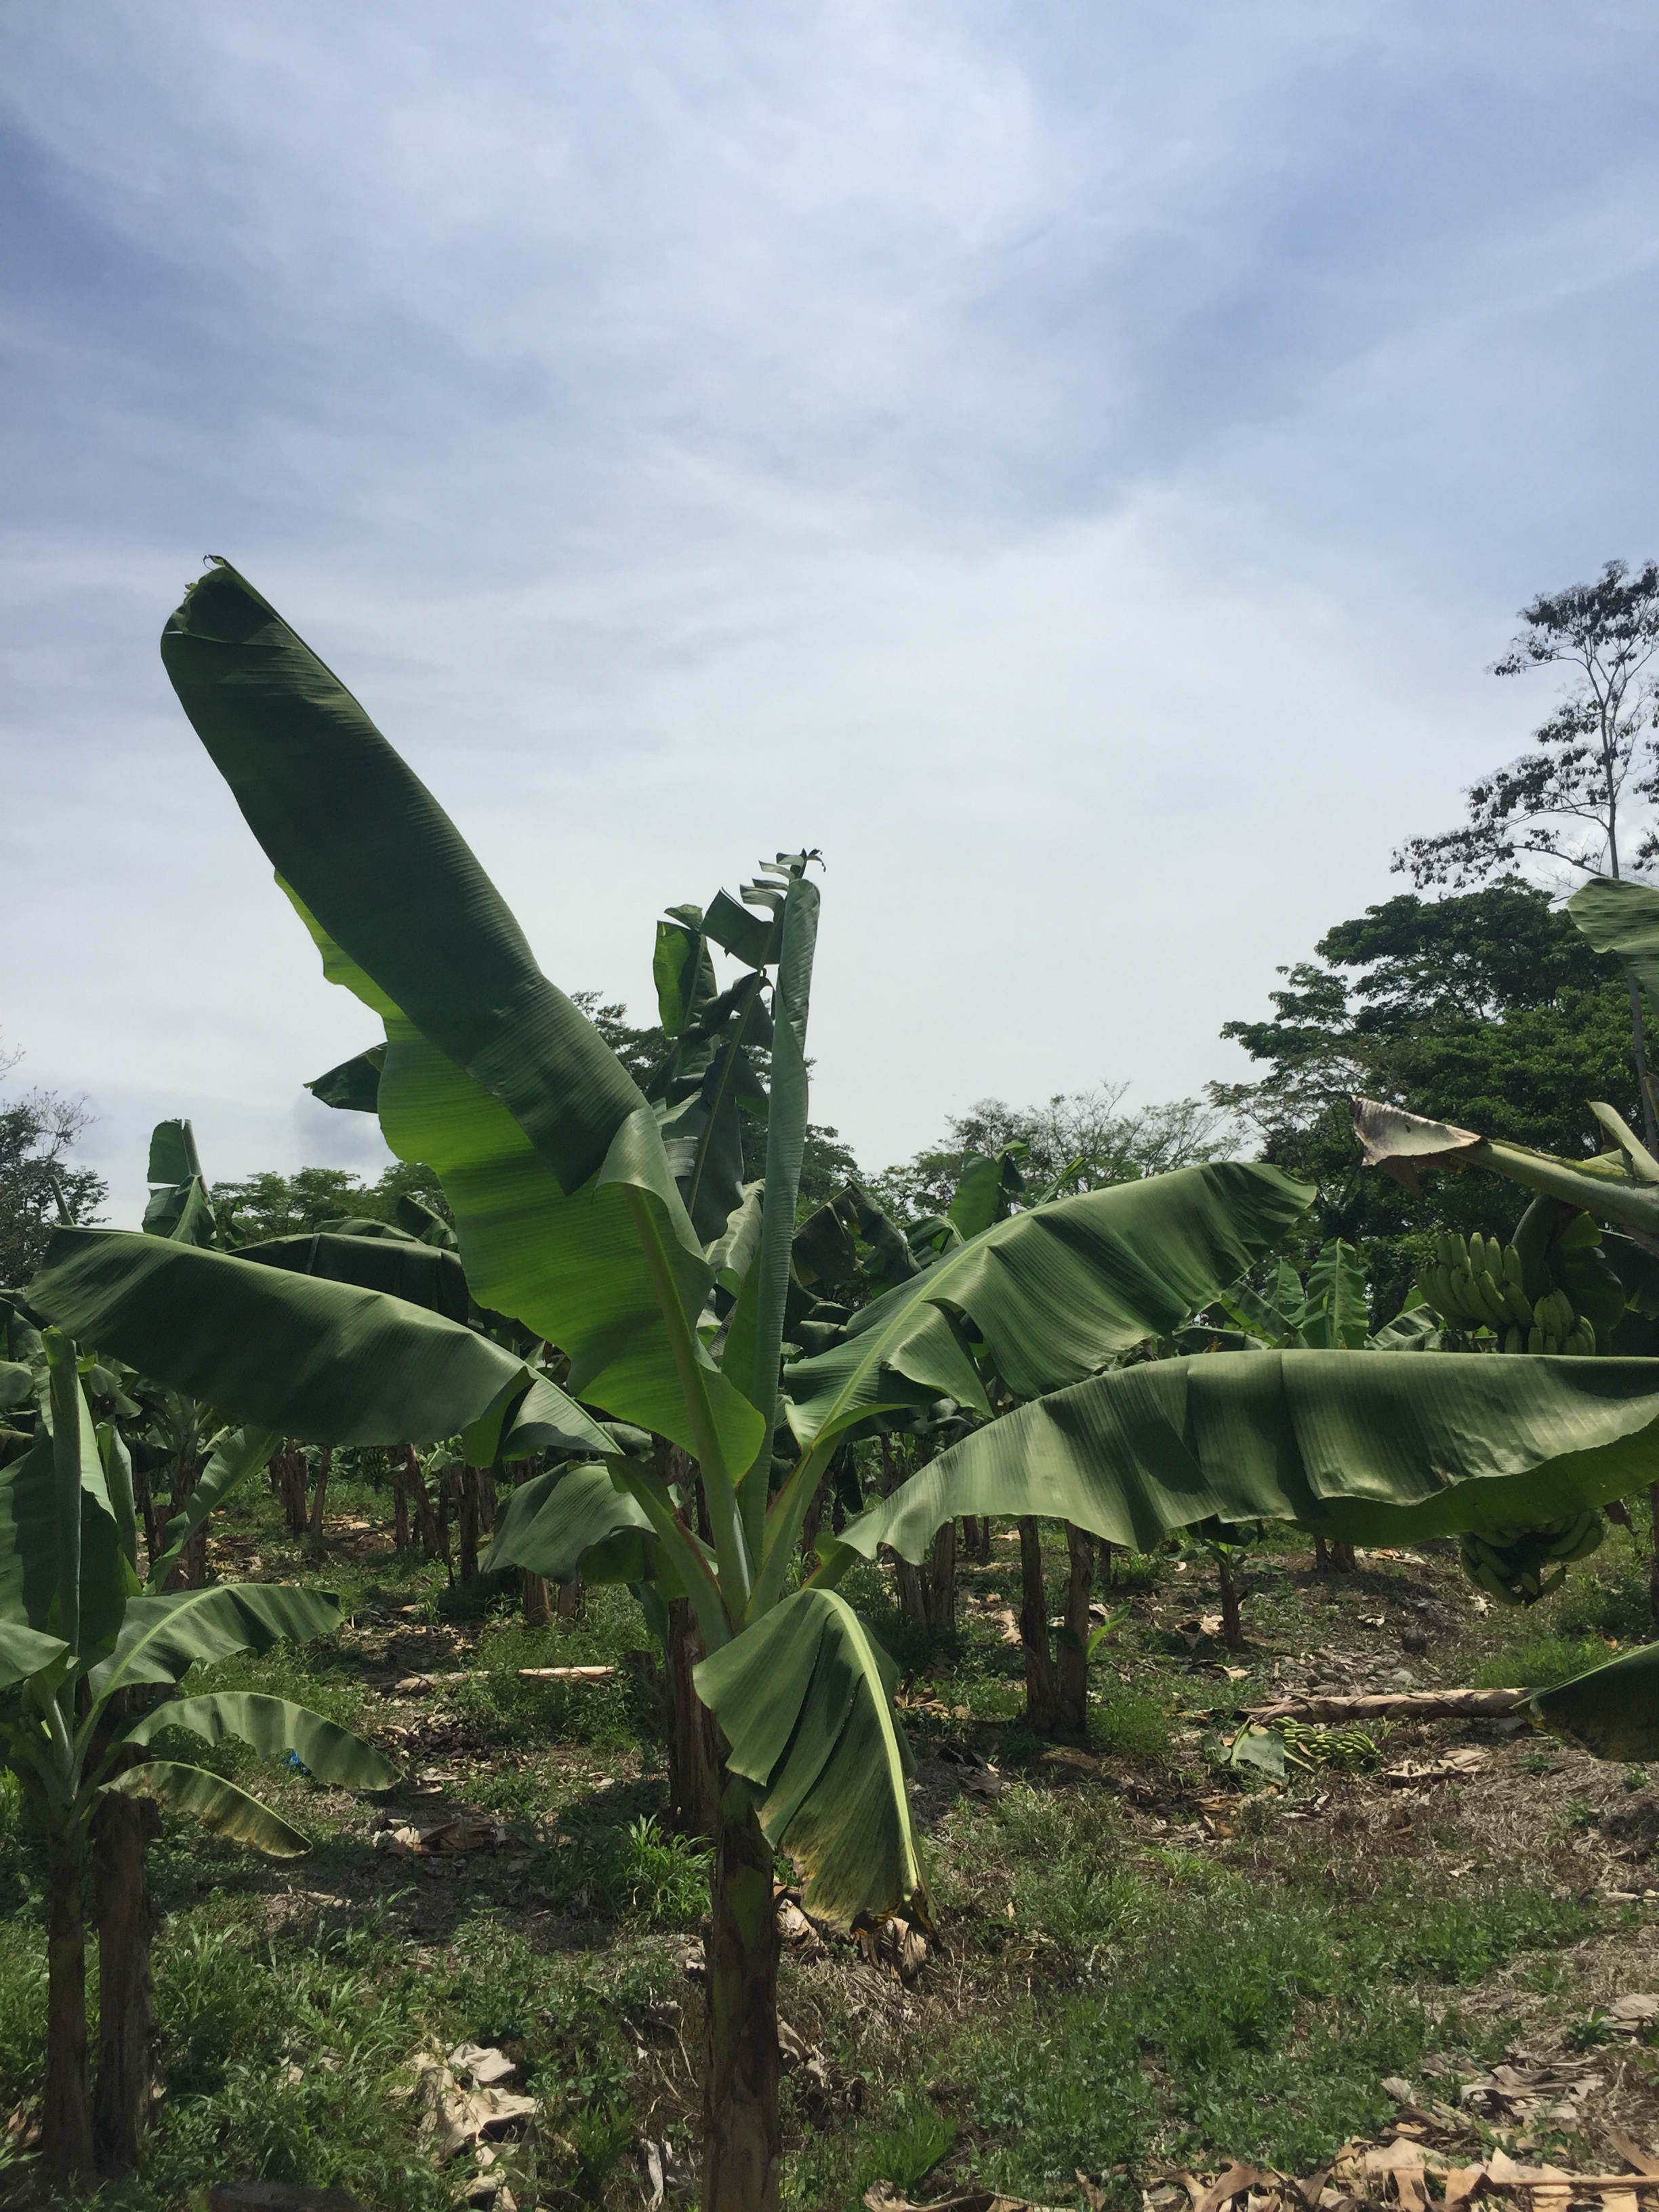candleleafs: (742, 885, 821, 1555)
